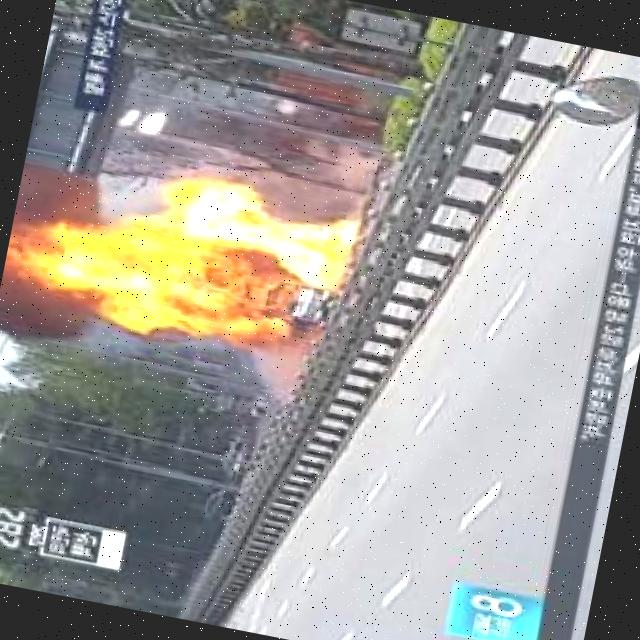fire: (122, 170, 358, 359), (20, 207, 128, 306)
